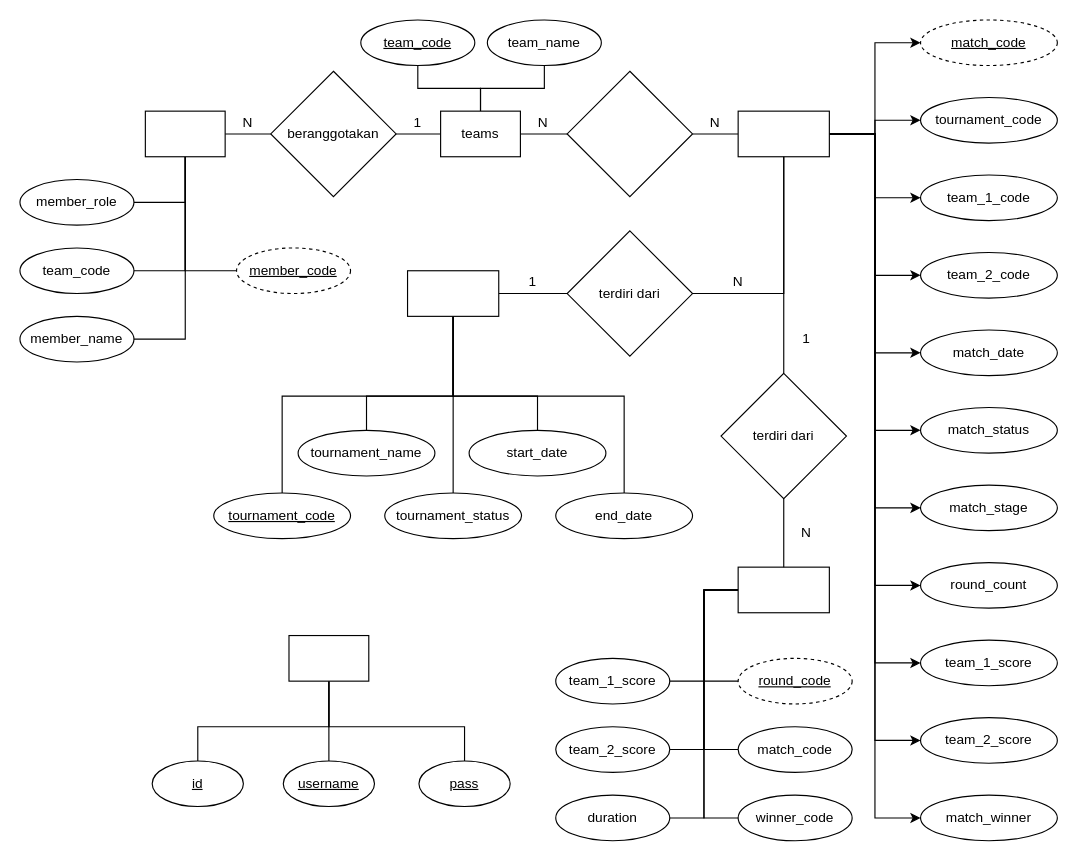
Some shapes in this 1077 by 861 pixel diagram are drawn without their labels. The shapes that lost their labels are listed below. From the top down, each one's centre as x and y in pixels, then its label:
(184,133): team_info
(629,133): bermain dalam
(783,133): match_info
(452,293): tournaments
(783,589): round_detail
(328,657): admin
